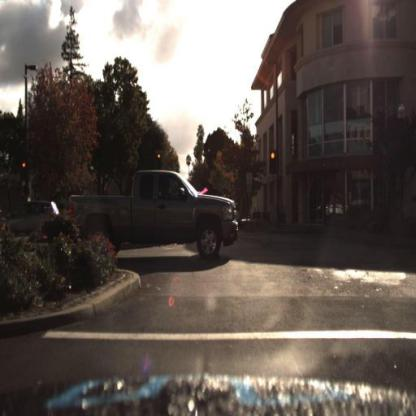car: (1, 202, 61, 242)
trafficLight-Red: (269, 145, 278, 171), (21, 157, 29, 176), (156, 145, 163, 166)
truck: (68, 168, 244, 269)
